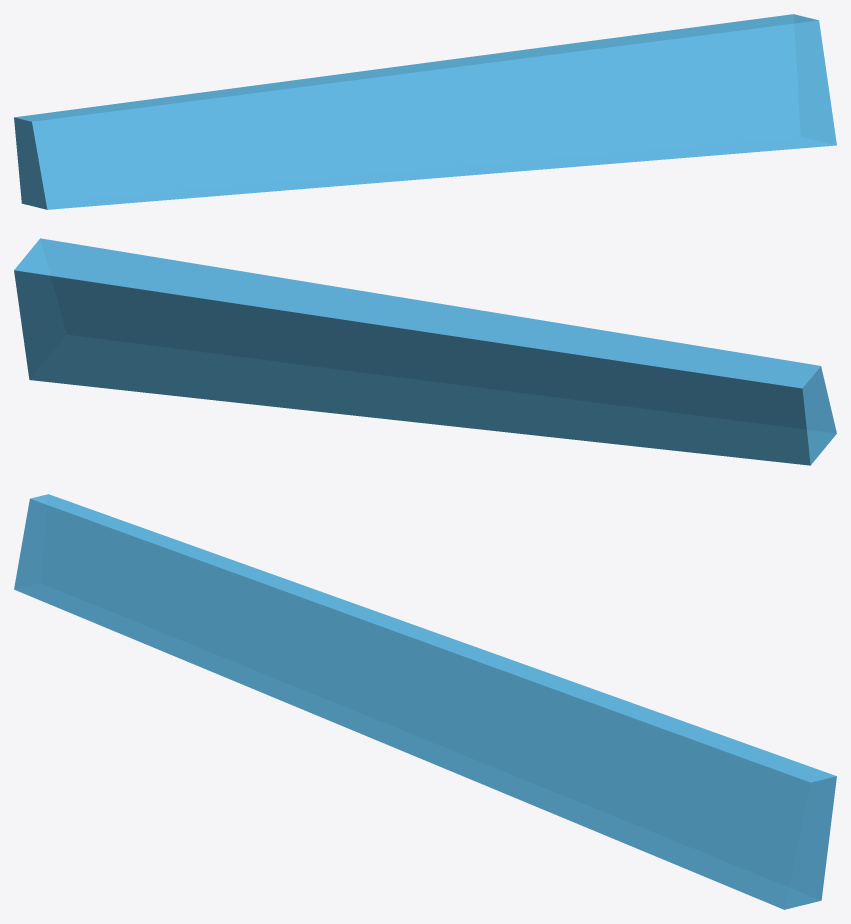
Rendered from Event_421127236_HErechit_48.fbx.
The picture shows the model from 3 angles, top to bottom: view 1: azimuth 30°, elevation 25°; view 2: azimuth 150°, elevation 25°; view 3: azimuth 330°, elevation 25°; orthographic projection. The views are drawn at different scales.
Parts seen in each view (by area): view 1: Model; view 2: Model; view 3: Model.
Part boxes in pixels (x1,y1,x2,y2): Model: [14, 14, 836, 209]; Model: [14, 238, 836, 465]; Model: [14, 494, 836, 909].
Size of the model in its own units: 4.62 by 1.15 by 0.5693.
